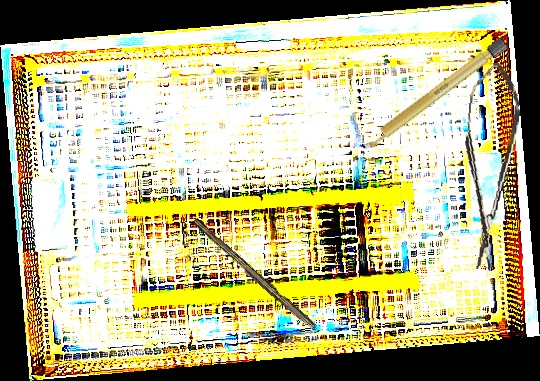Micro Scissor: (452, 60, 525, 273)
Scalpel Handle: (357, 34, 510, 156), (188, 217, 320, 333)
